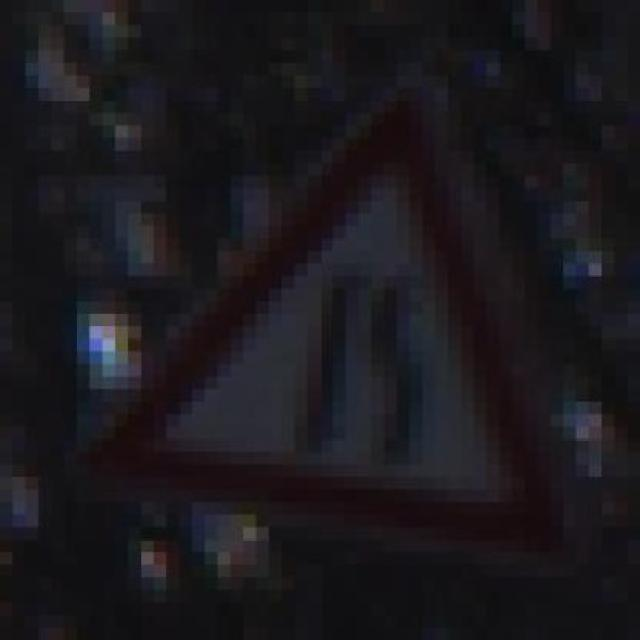-Road narrows on right: (90, 75, 588, 578)
